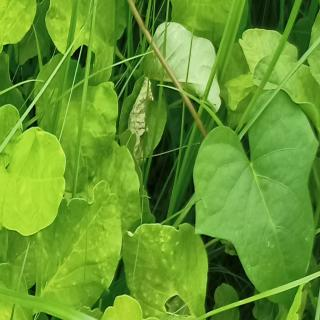karat_putih: (31, 174, 122, 308), (122, 212, 206, 317)
virus_keriting: (0, 0, 38, 54)
